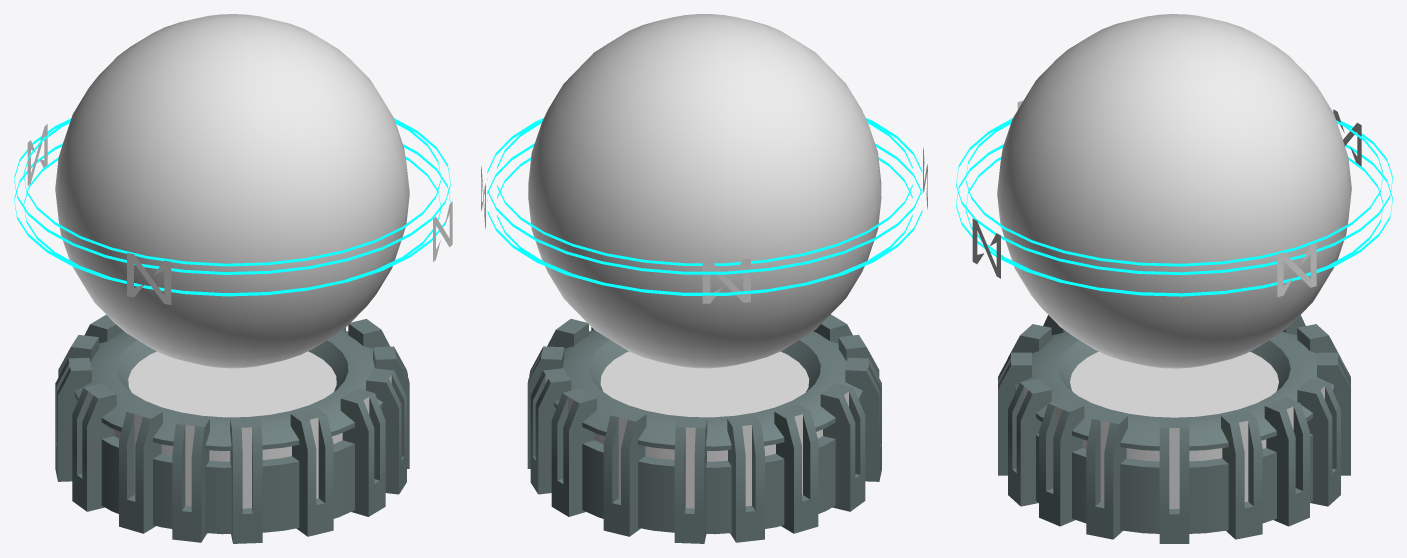
The model's file is Planetario.fbx.
3 views of the same model, side by side, from view 1: azimuth 30°, elevation 25°; view 2: azimuth 150°, elevation 25°; view 3: azimuth 270°, elevation 25° (orthographic).
Parts seen in each view (by area): view 1: Sphere, Cylinder, Circle, Plane.004; view 2: Sphere, Cylinder, Circle, Plane.006; view 3: Sphere, Cylinder, Circle, Plane.005, Plane.007.
Part boxes in pixels (x1=…): Sphere: x1=55, y1=14, x2=409, y2=368; Cylinder: x1=55, y1=314, x2=409, y2=543; Circle: x1=14, y1=118, x2=450, y2=296; Plane.004: x1=127, y1=253, x2=171, y2=304; Sphere: x1=528, y1=14, x2=881, y2=368; Cylinder: x1=527, y1=314, x2=881, y2=543; Circle: x1=487, y1=118, x2=922, y2=295; Plane.006: x1=702, y1=259, x2=750, y2=303; Sphere: x1=997, y1=14, x2=1351, y2=368; Cylinder: x1=998, y1=315, x2=1350, y2=543; Circle: x1=956, y1=118, x2=1392, y2=296; Plane.005: x1=1277, y1=242, x2=1316, y2=297; Plane.007: x1=972, y1=218, x2=1000, y2=278.
Size of the model in its own units: 1042 by 1156 by 1042.
